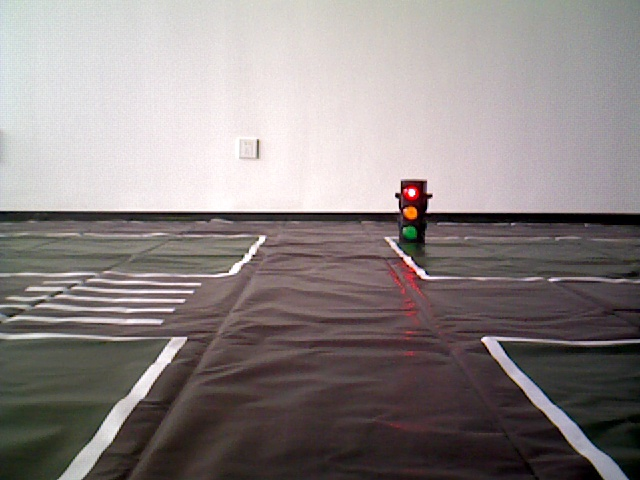red: (396, 182, 420, 243)
